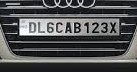numberplate: (18, 18, 121, 37)
